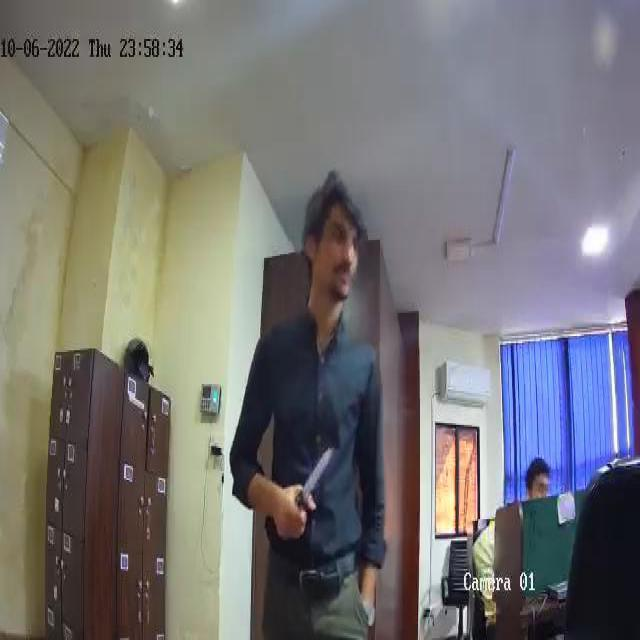faca: (282, 442, 333, 536)
